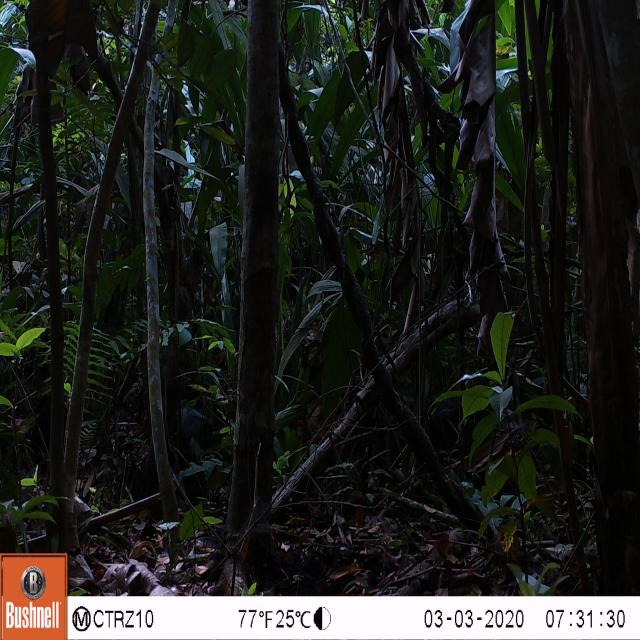Tayra: (3, 2, 636, 602)
White-tailed Deer: (10, 1, 102, 134)
